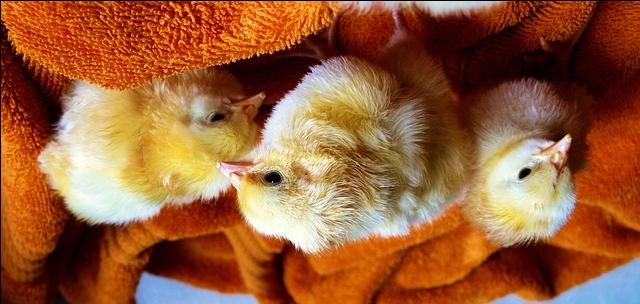Non_Gorille: (17, 0, 604, 300)
